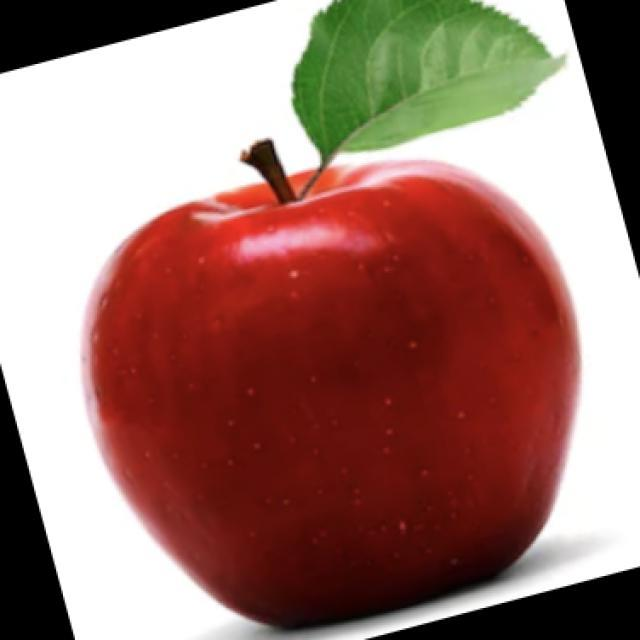Fresh Apple: (91, 165, 566, 617)
